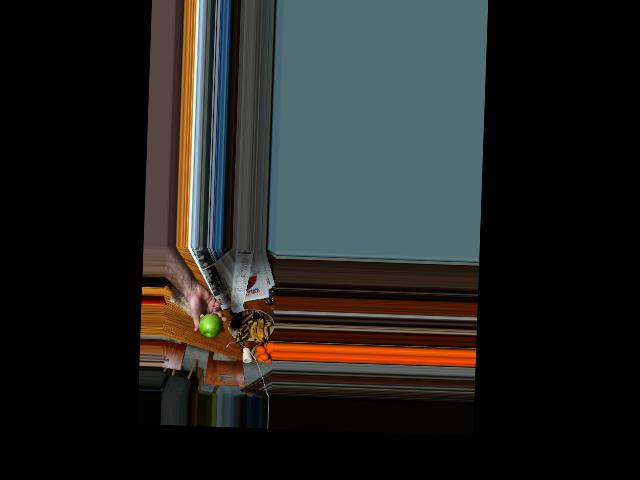apple: (199, 312, 220, 337)
